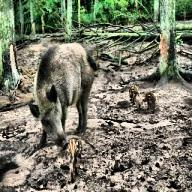boar: (28, 42, 97, 150)
